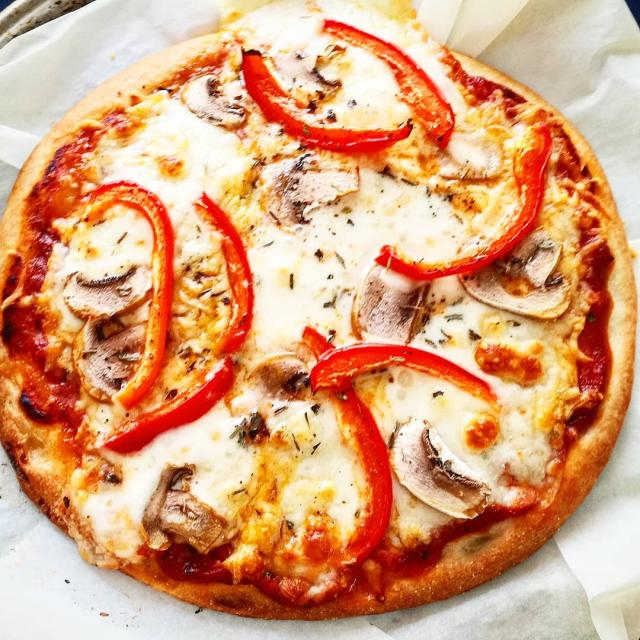mushrooms: (390, 414, 493, 533), (455, 226, 573, 325), (246, 142, 366, 234), (142, 460, 232, 560), (348, 255, 436, 352), (70, 316, 151, 400), (267, 37, 348, 111), (65, 263, 156, 320), (175, 73, 250, 132), (239, 356, 316, 402)
pizza: (0, 1, 636, 619)
